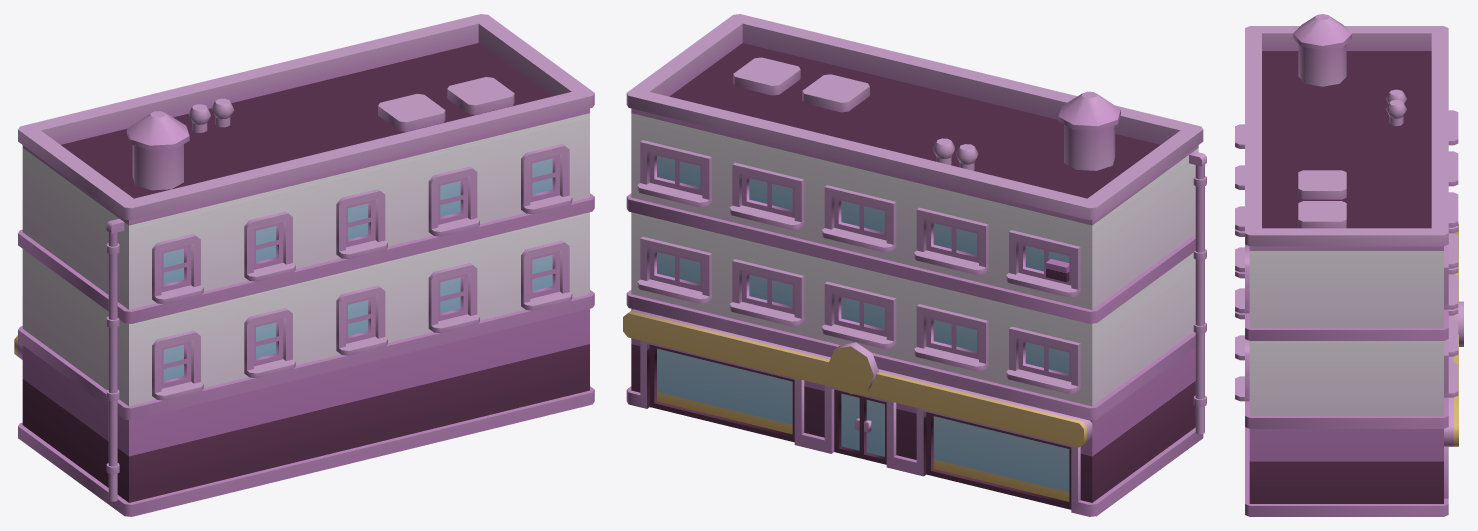
The model's file is market_hall_2story.obj.
3 views of the same model, side by side, from view 1: azimuth 30°, elevation 25°; view 2: azimuth 150°, elevation 25°; view 3: azimuth 270°, elevation 25° (orthographic). The views are drawn at different scales.
Visible parts, largest first — view 1: building-k; view 2: building-k; view 3: building-k.
Part boxes in pixels (x1,y1,x2,y2): building-k: (14,14,594,516); building-k: (623,14,1206,516); building-k: (1235,14,1463,516).
Bounding box in the file's own units: 41.67 × 29.4 × 18.84.
1 material, 1 textured.
